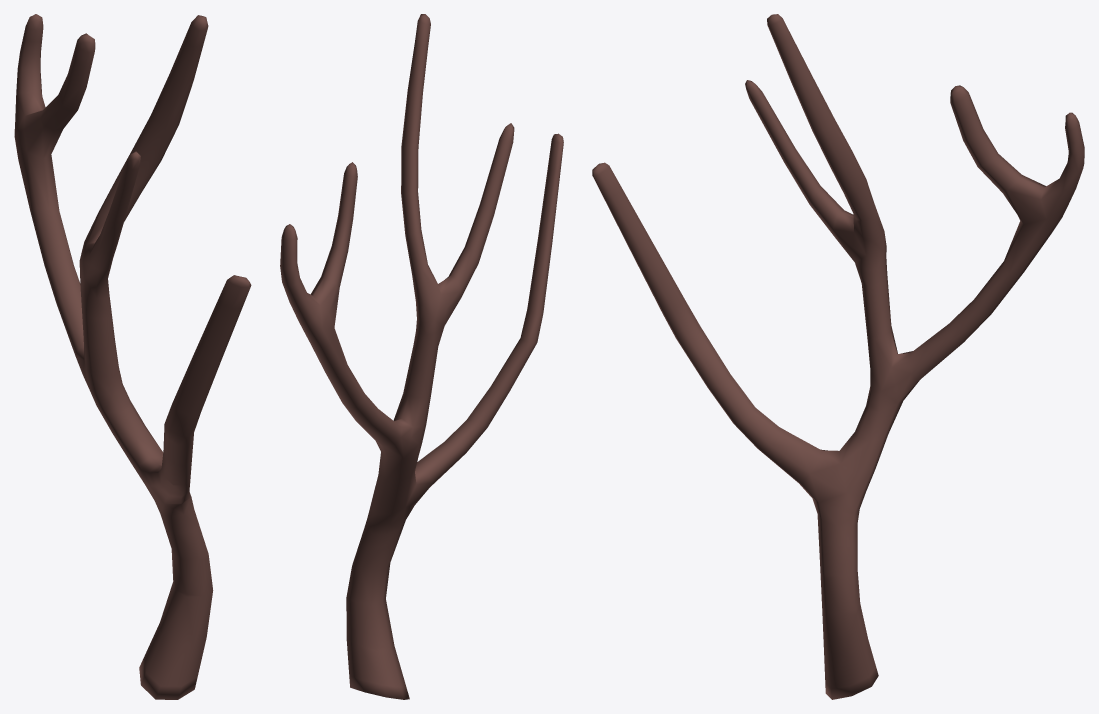
Rendered from Willow_Dead_1.fbx.
3 renders of one model, left to right at view 1: azimuth 30°, elevation 25°; view 2: azimuth 150°, elevation 25°; view 3: azimuth 270°, elevation 25°, orthographic. The views are drawn at different scales.
Parts seen in each view (by area): view 1: Willow_Dead_1; view 2: Willow_Dead_1; view 3: Willow_Dead_1.
Boxes of the visible parts, x1,y1,x2,y2 form: Willow_Dead_1: (14, 14, 251, 699); Willow_Dead_1: (280, 14, 563, 699); Willow_Dead_1: (592, 14, 1084, 699).
Size of the model in its own units: 0.542 by 2.84 by 1.87.
